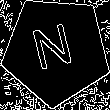N_S: (31, 21, 81, 80)
